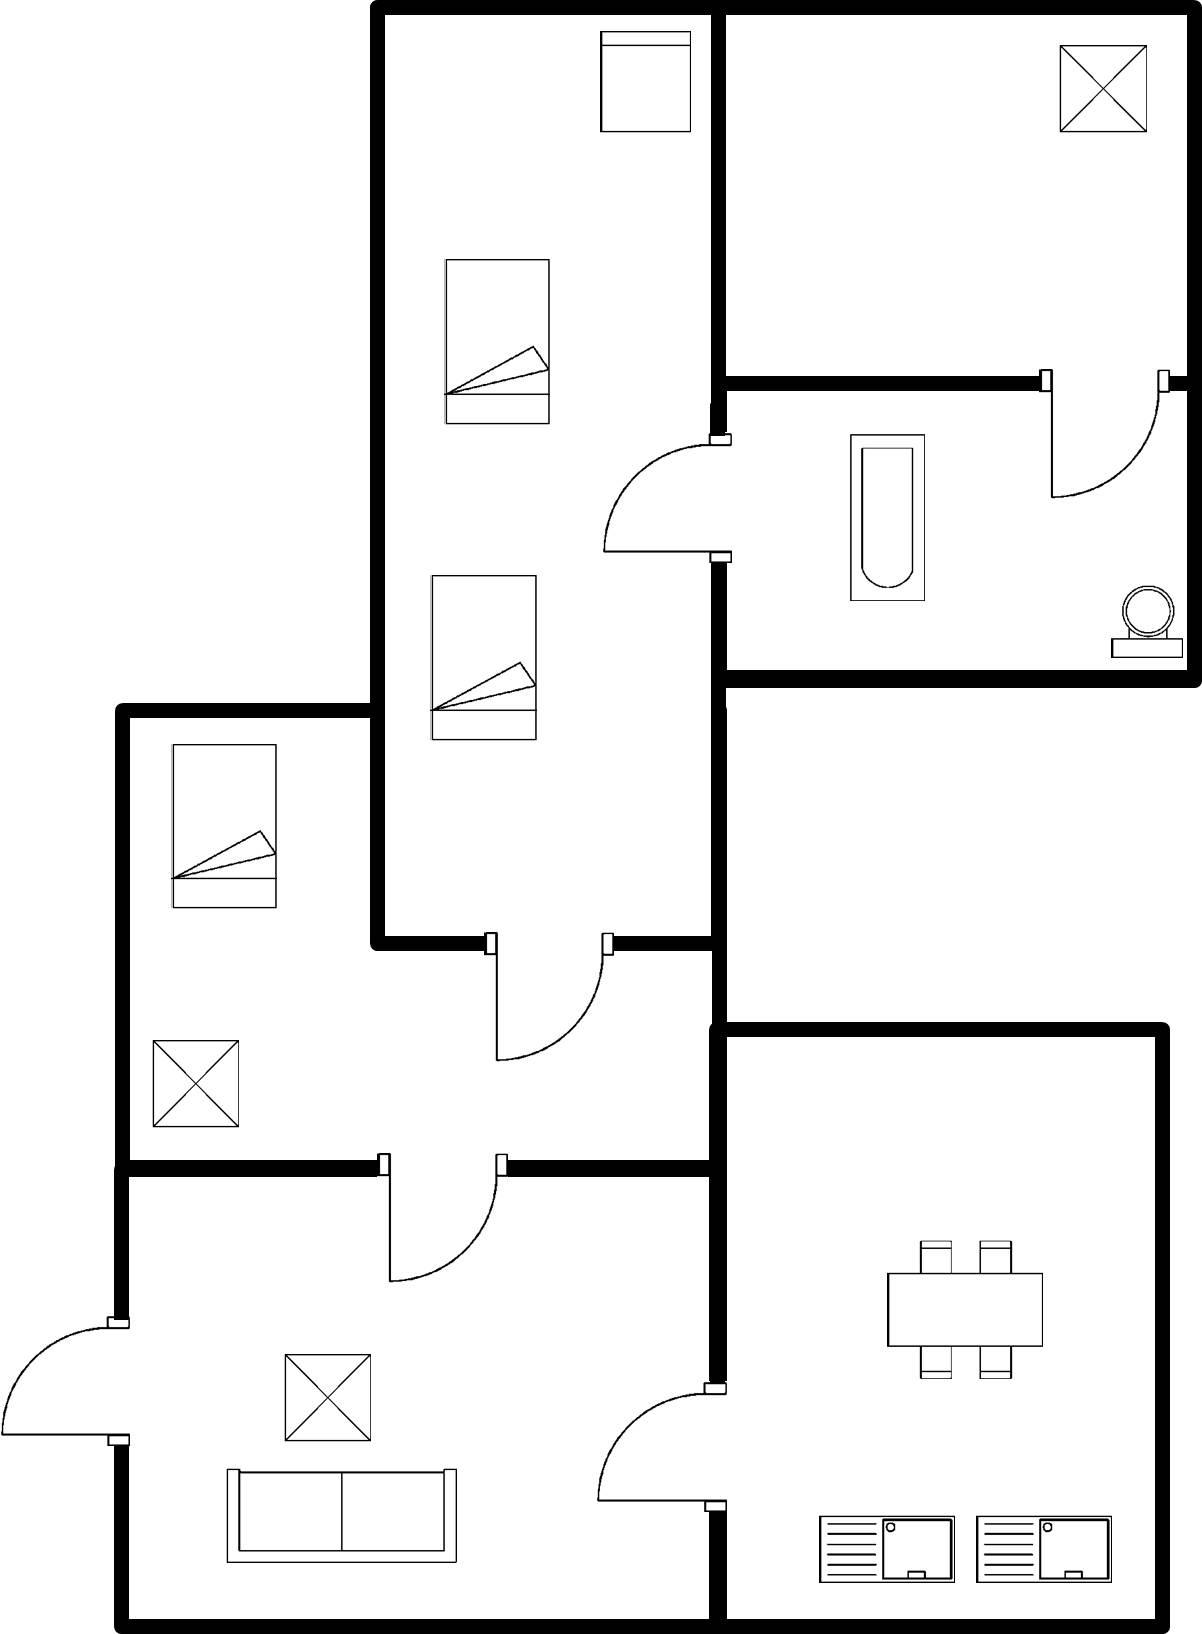bed: (432, 247, 567, 439), (161, 726, 284, 918), (421, 566, 548, 752)
dining_table: (868, 1231, 1065, 1394)
sink: (967, 1501, 1121, 1593), (807, 1506, 962, 1593)
sofa: (209, 1459, 467, 1572)
toilet: (1099, 577, 1188, 669)
tub: (836, 421, 937, 617)
